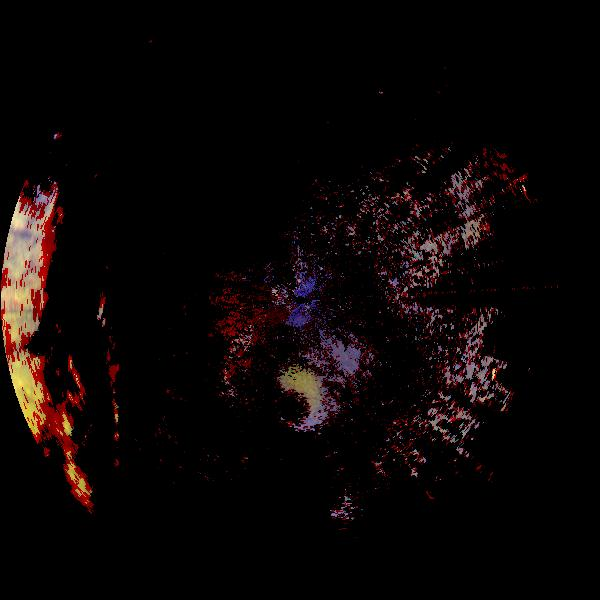roost: (265, 374, 328, 437)
